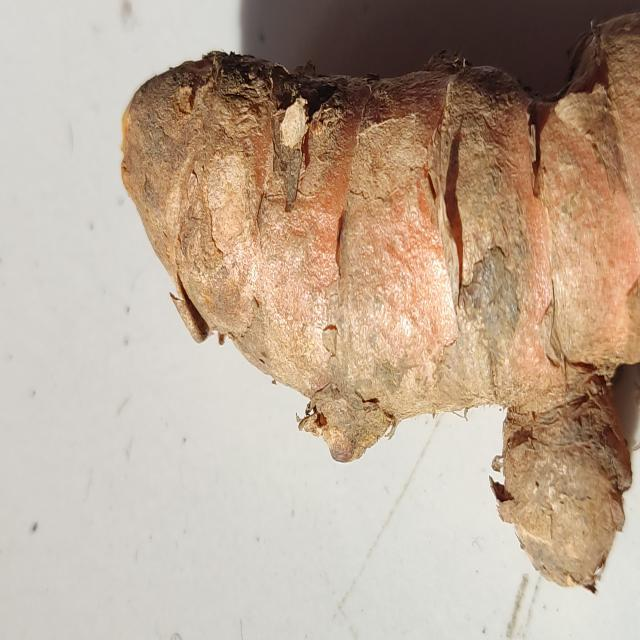ginger: (126, 51, 640, 547)
